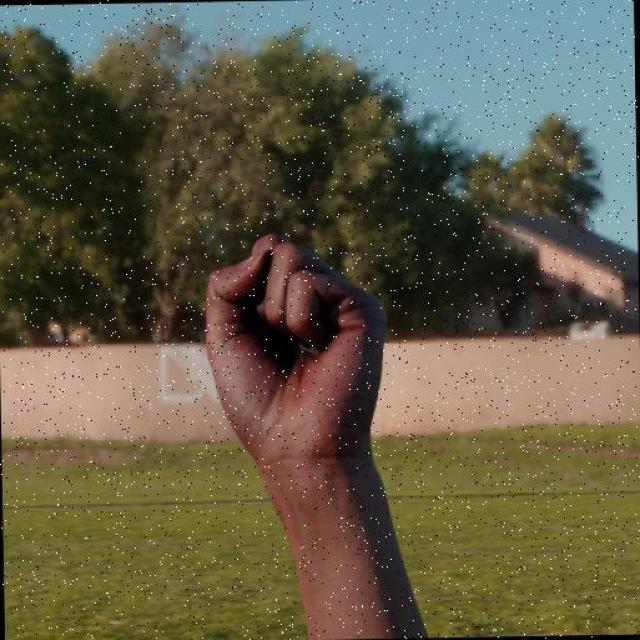S: (200, 230, 396, 482)
